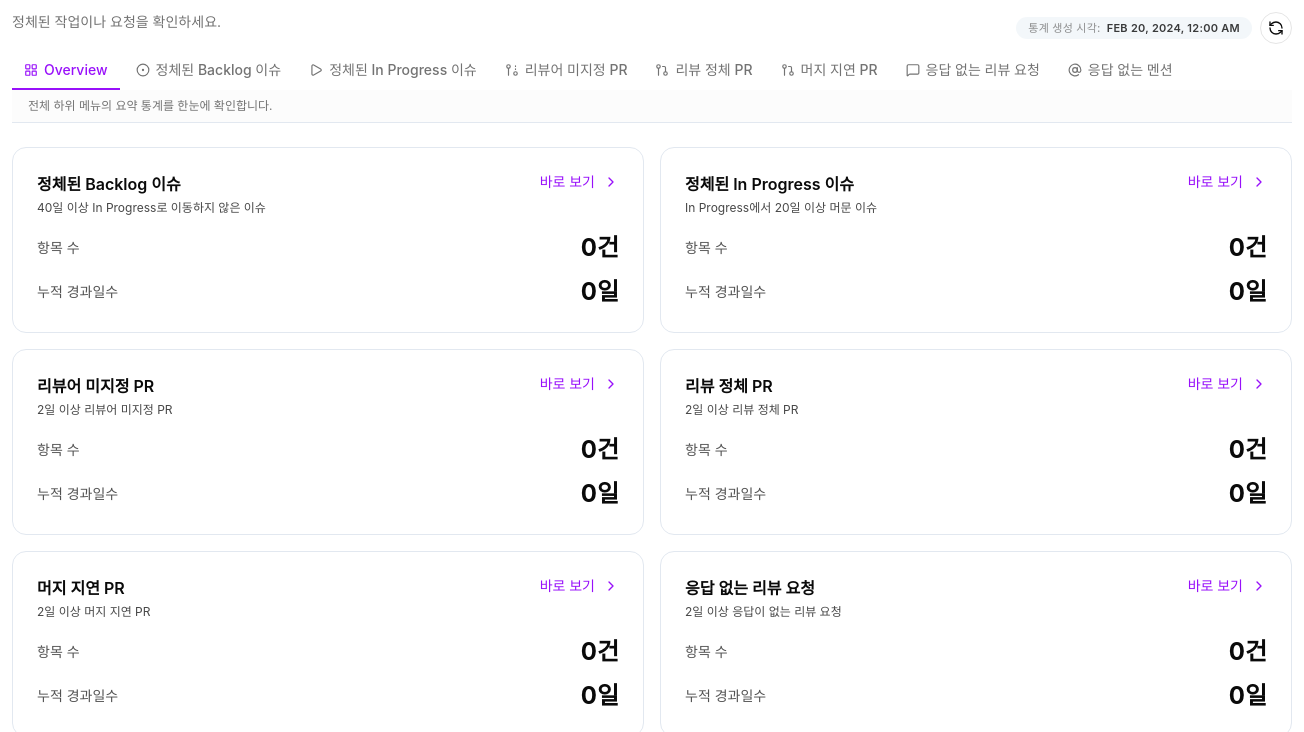
it: AttentionView reviewer-unassigned pull requests › renders reviewer-unassigned PR empty state without reviewer filters
Click the button "리뷰어 미지정 PR" at [566, 71], box top-left (493, 52), bottom-right (640, 90)
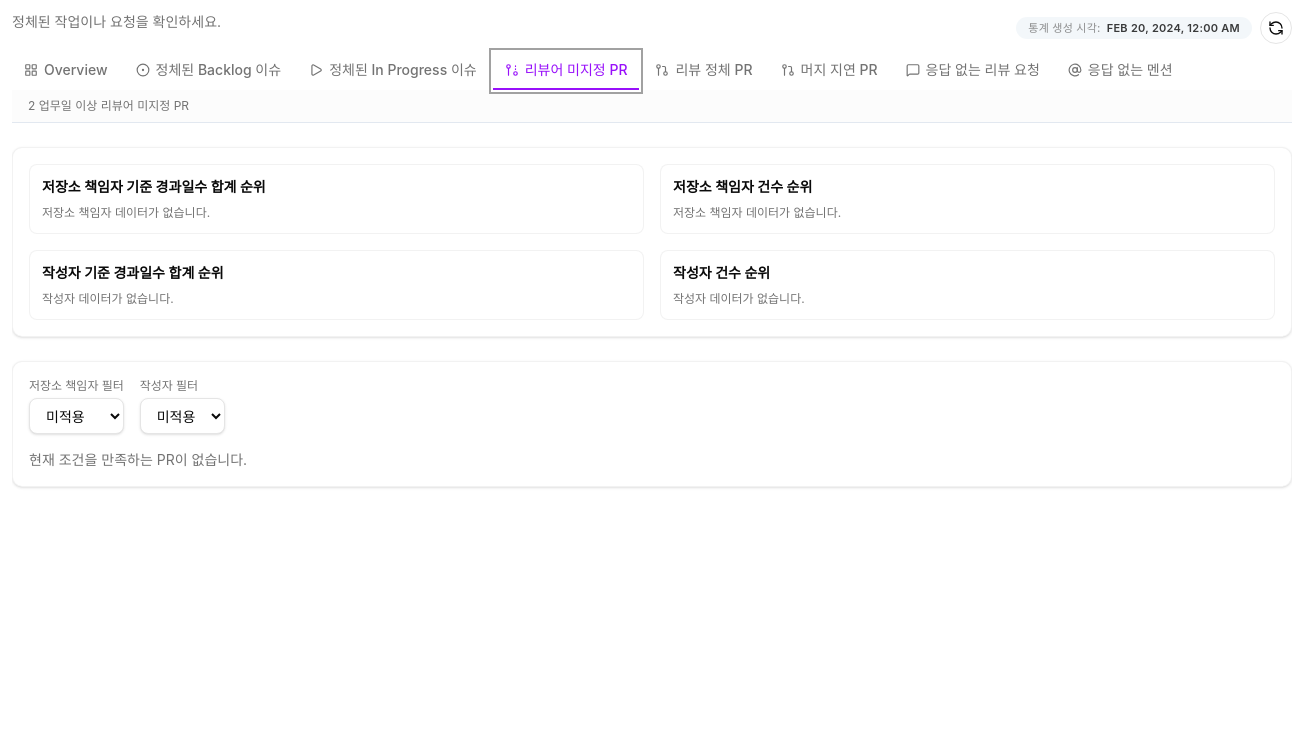
Now the text "현재 조건을 만족하는 PR이 없습니다." is shown, box top-left (29, 451), bottom-right (247, 468)
Now the text "저장소 책임자 기준 경과일수 합계 순위" is shown, box top-left (42, 178), bottom-right (266, 195)
Now the text "작성자 기준 경과일수 합계 순위" is shown, box top-left (42, 264), bottom-right (224, 281)
